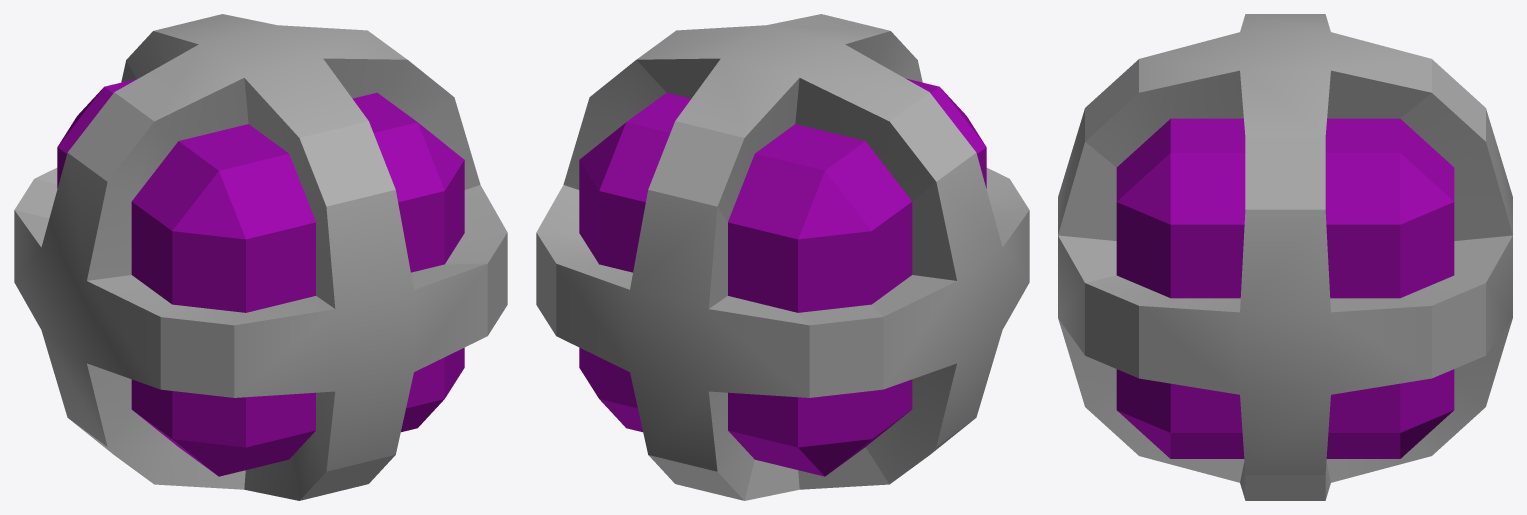
File: stamina-mesh-2.fbx
3 renders of one model, left to right at view 1: azimuth 30°, elevation 25°; view 2: azimuth 150°, elevation 25°; view 3: azimuth 270°, elevation 25°, orthographic.
Visible parts, largest first — view 1: pCube1; view 2: pCube1; view 3: pCube1.
Boxes of the visible parts, x1,y1,x2,y2 form: pCube1: (14, 14, 507, 500); pCube1: (536, 14, 1029, 500); pCube1: (1058, 14, 1512, 500).
Bounding box in the file's own units: 1.35 × 1.35 × 1.35.
